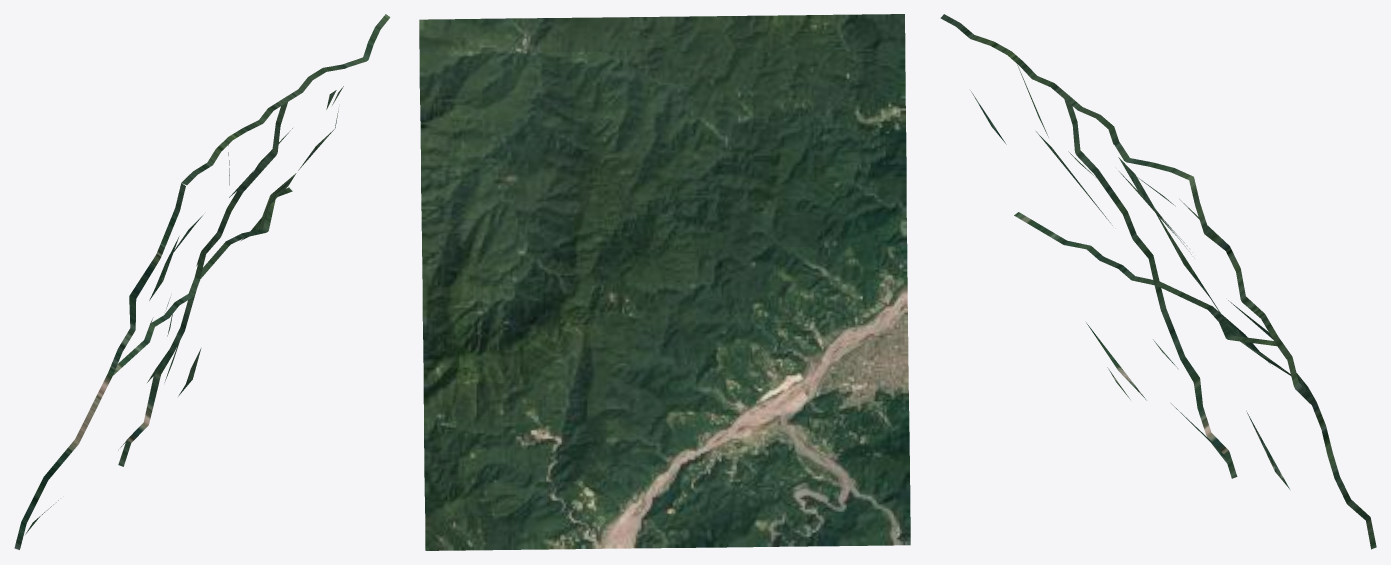
3 views of the same model, side by side, from view 1: azimuth 30°, elevation 25°; view 2: azimuth 150°, elevation 25°; view 3: azimuth 270°, elevation 25° (orthographic). The views are drawn at different scales.
Bounding box in the file's own units: 19261 × 18309 × 16855.
1 material, 1 textured.
